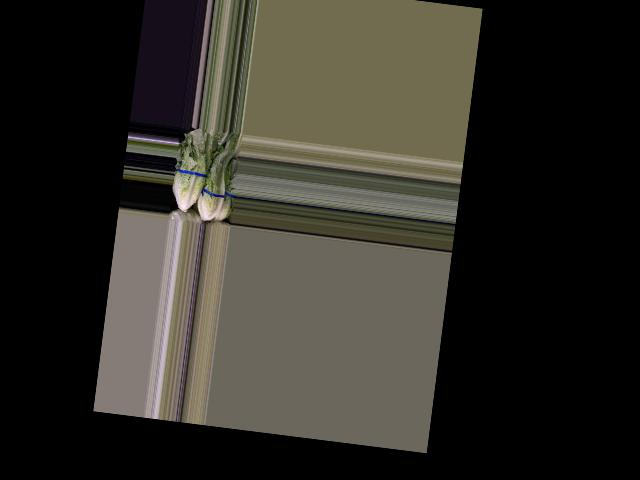lettuce: (195, 145, 236, 224)
